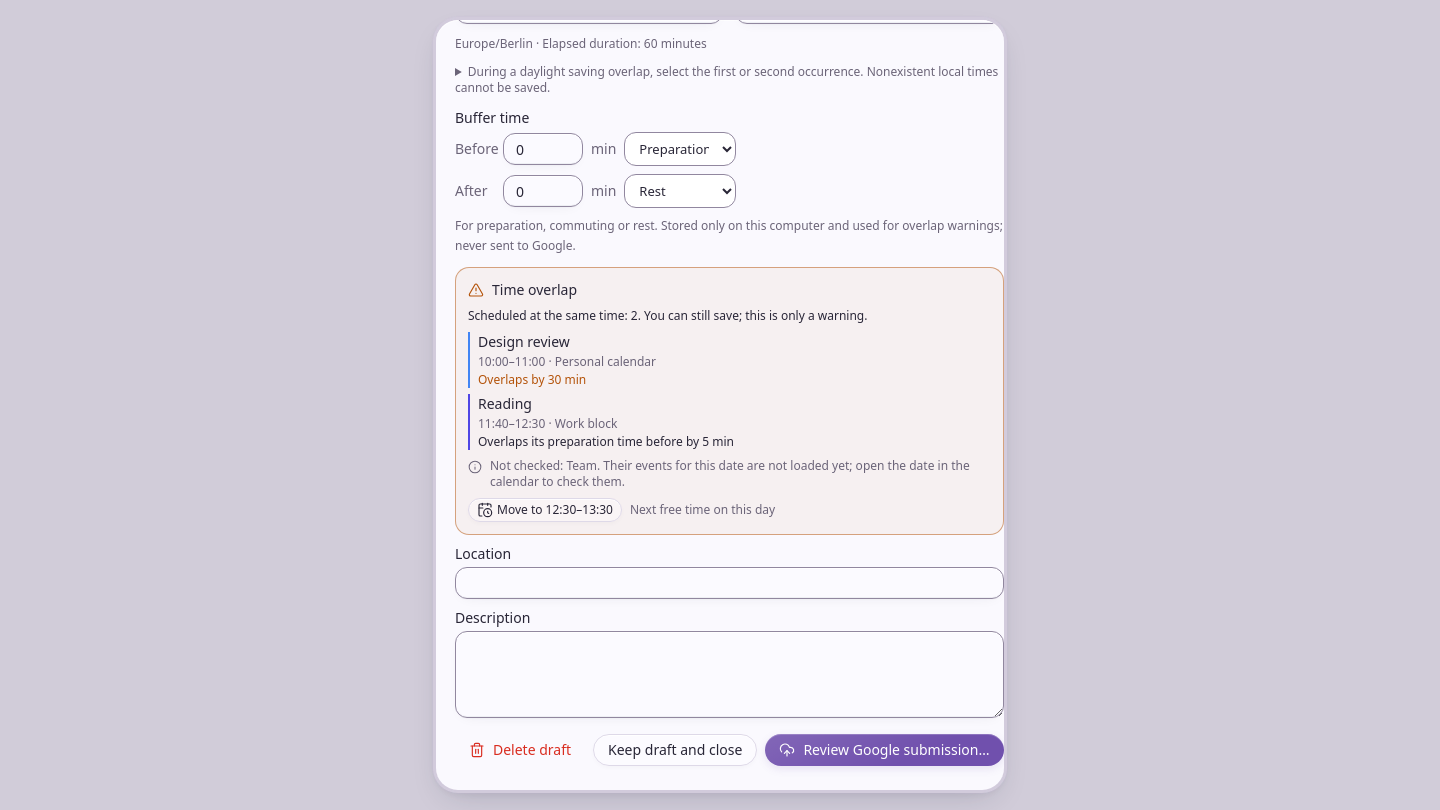
Test: overlap warning and buffers in the calendar editor › repeats the overlap in the Google submission review
(page scrolled)
Expected: the message "Time overlap" is shown, [455,267,1004,535]
Click the button "Review Google submission…": click(884, 750) [765,734,1004,766]
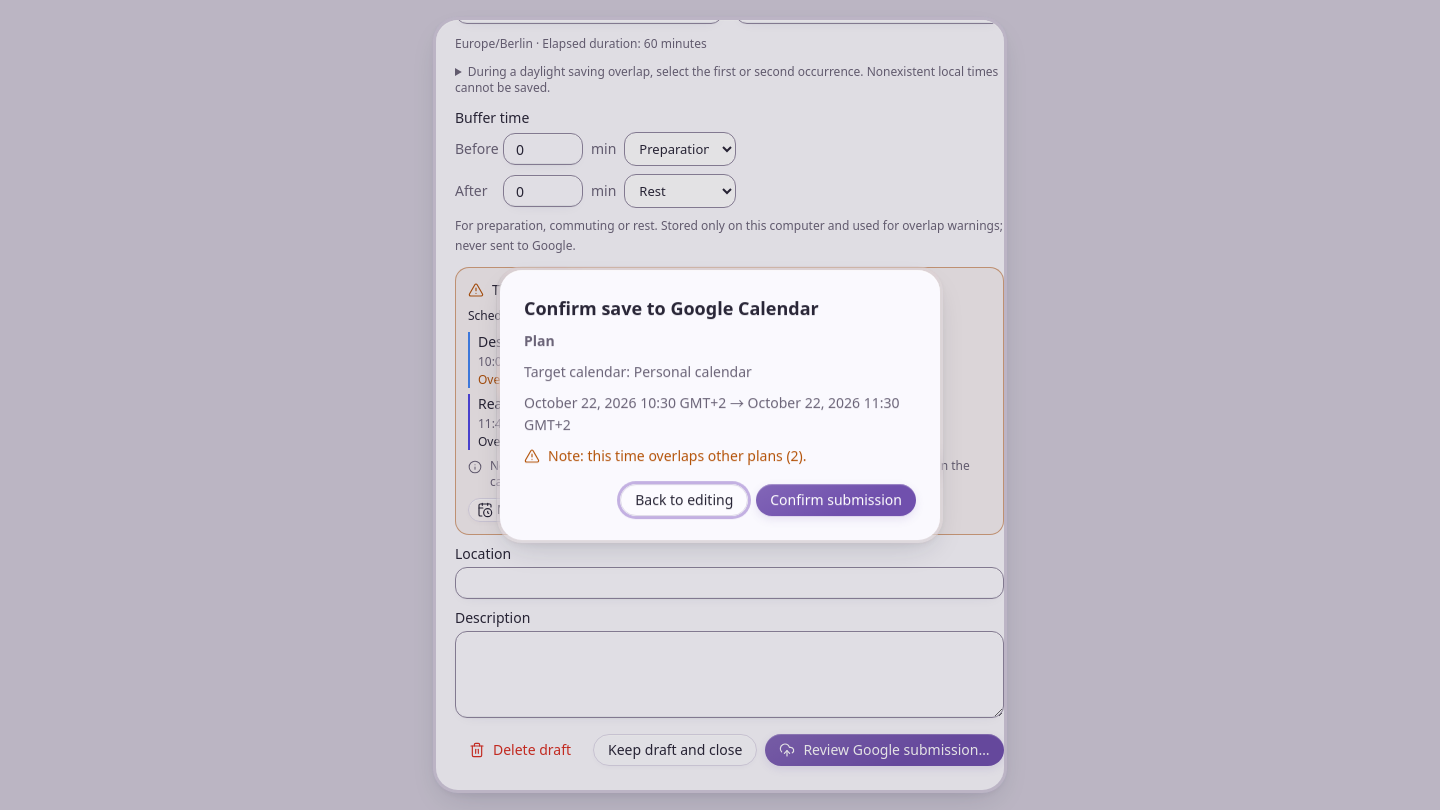
Expected: the dialog that starts with "Confirm save to Google Calendar" shows "Note: this time overlaps other plans (2).", [548,446,806,465]
